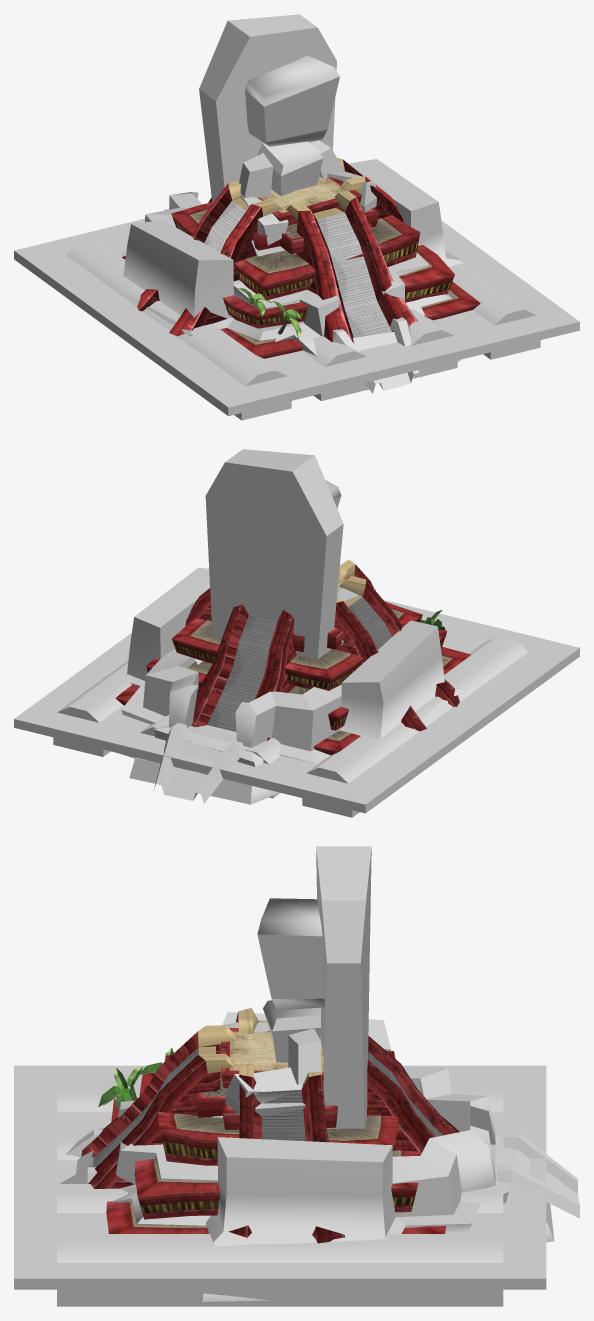
The model's file is Buildings.FBX.
3 views of the same model, one above another, from view 1: azimuth 30°, elevation 25°; view 2: azimuth 150°, elevation 25°; view 3: azimuth 270°, elevation 25° (orthographic). The views are drawn at different scales.
Visible parts, largest first — view 1: Box023, Temple, MoMentumOfThe gods, SockerField, Trees01; view 2: Box023, SockerField, MoMentumOfThe gods, Temple; view 3: Box023, SockerField, Temple, MoMentumOfThe gods, Trees01.
Part boxes in pixels (box(x1,y1,x2,y2)): Box023: box(14, 218, 579, 420); Temple: box(122, 158, 480, 358); MoMentumOfThe gods: box(199, 14, 376, 256); SockerField: box(122, 159, 462, 393); Trees01: box(238, 288, 301, 339); Box023: box(14, 600, 579, 817); SockerField: box(120, 567, 461, 804); MoMentumOfThe gods: box(205, 449, 375, 659); Temple: box(115, 559, 470, 755); Box023: box(14, 1065, 546, 1306); SockerField: box(60, 1012, 579, 1301); Temple: box(81, 1008, 459, 1243); MoMentumOfThe gods: box(212, 846, 371, 1130); Trees01: box(98, 1048, 173, 1109).
Size of the model in its own units: 971 by 739 by 1091.
